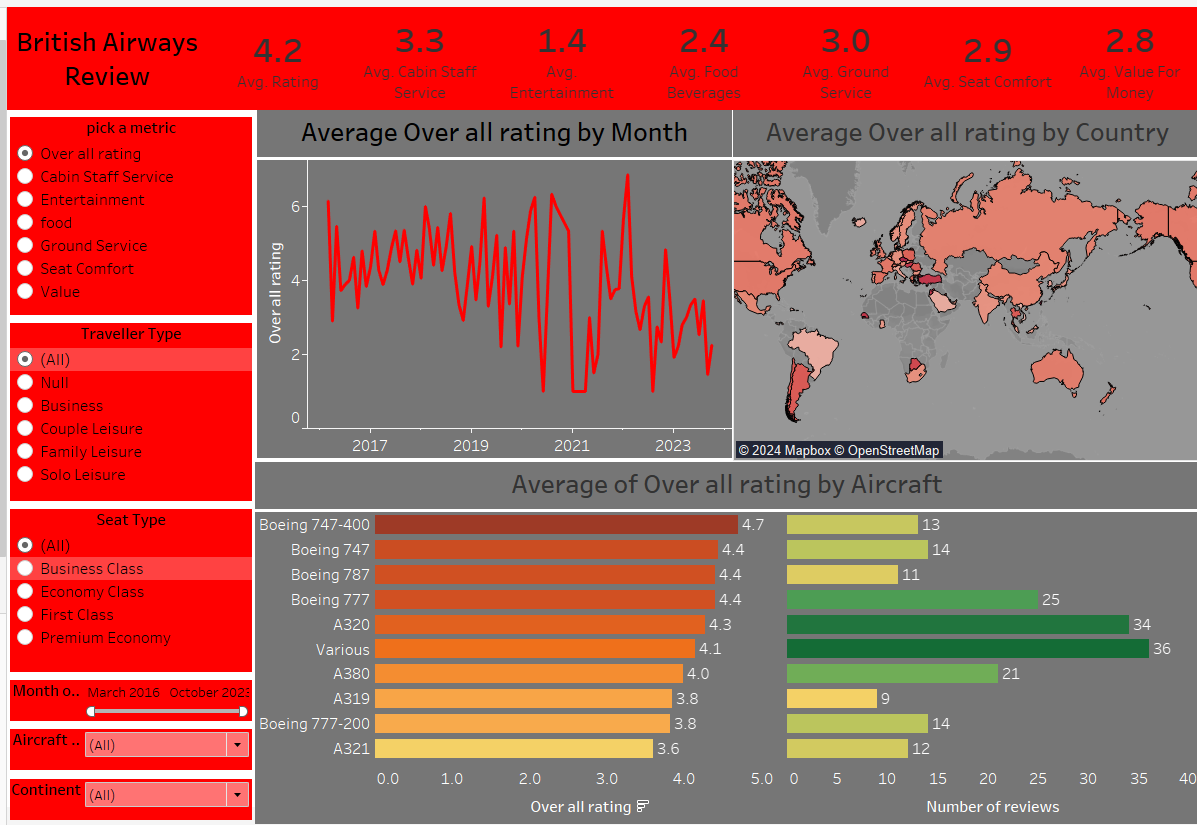

Layout of this report page (visuals, bound fields, positions):
{"tool":"tableau","page":{"name":"Dashboard 1","canvas":[1000,1000],"units":"permille","ordinal":0},"visuals":[{"type":"text","box":[0,0,166.7,128.6]},{"type":"worksheet","title":"Sheet 2","mark":"Automatic","box":[166.7,0,828.3,128.6]},{"type":"worksheet","title":"Sheet 3","mark":"Automatic","rows":["Calculation_138485743040110592"],"cols":["date"],"box":[208.3,128.8,395.8,435]},{"type":"worksheet","title":"Map","mark":"Automatic","box":[605,128.8,390.8,438.8]}]}

Visuals, with their boxes on the dashboard's canvas, which has no fixed pixel size, in thousandths of its width and height (x1, y1, x2, y2). These are canvas units, not pixel positions in the 1197x825 screenshot, which may show the page scaled, cropped or inside an application window:
text: region(0, 0, 167, 129)
"Sheet 2" worksheet: region(167, 0, 995, 129)
"Sheet 3" worksheet: region(208, 129, 604, 564)
"Map" worksheet: region(605, 129, 996, 568)
